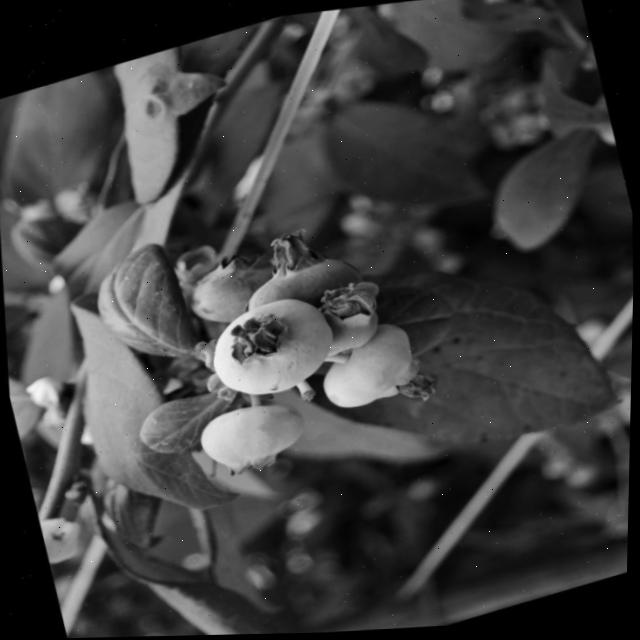RipeBlueBerry: (238, 237, 364, 319)
Semi-RipeBlueBerry: (177, 241, 279, 326)
UnripeBlueBerry: (198, 281, 344, 406), (308, 313, 426, 415), (188, 386, 312, 482)
